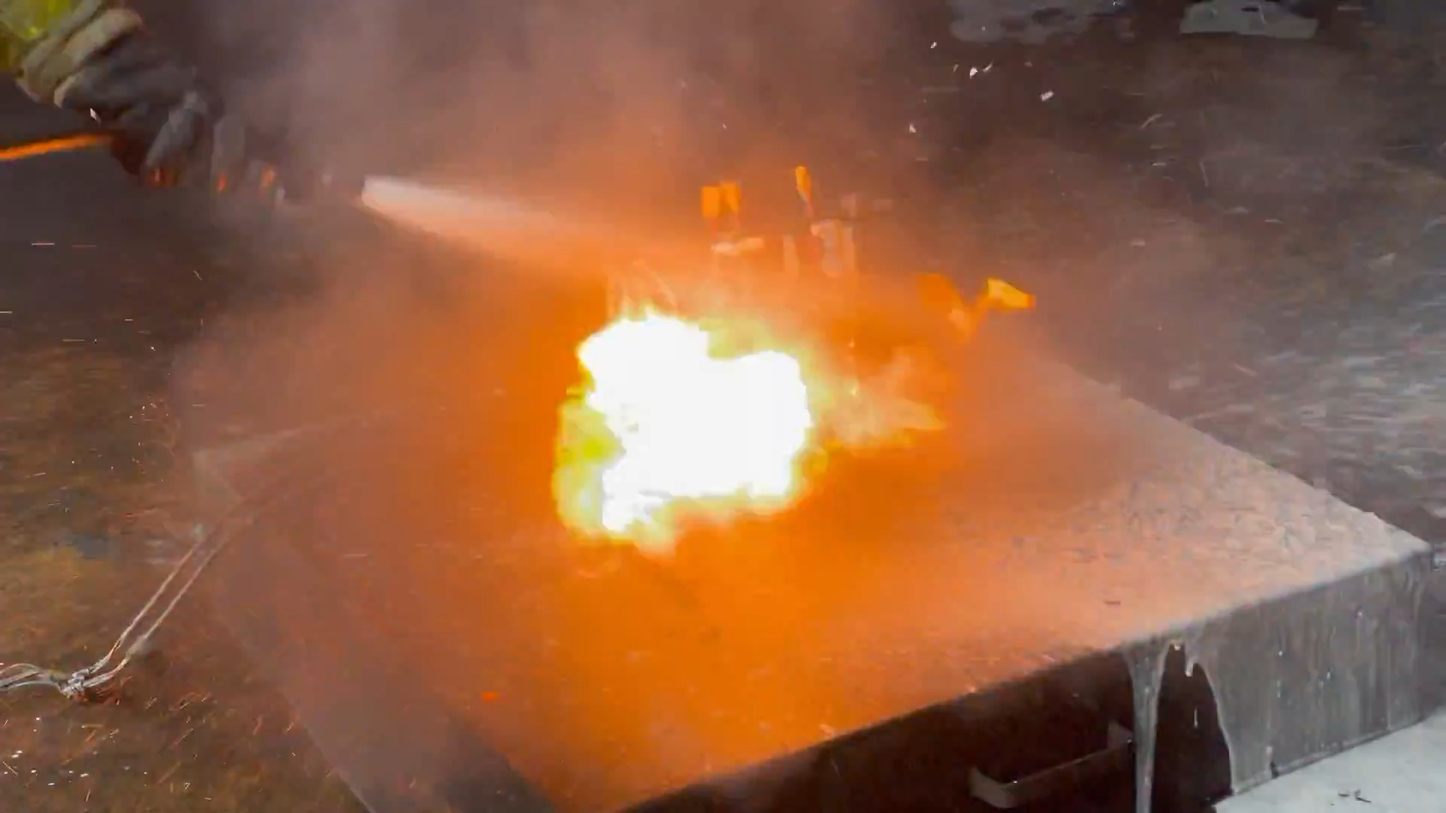fire: (549, 164, 1041, 562)
smoke: (154, 1, 900, 315)
